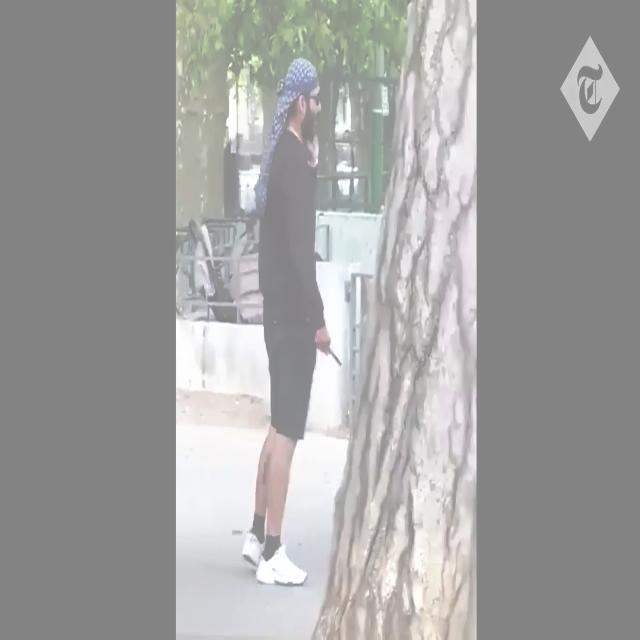Knife: (310, 328, 347, 370)
